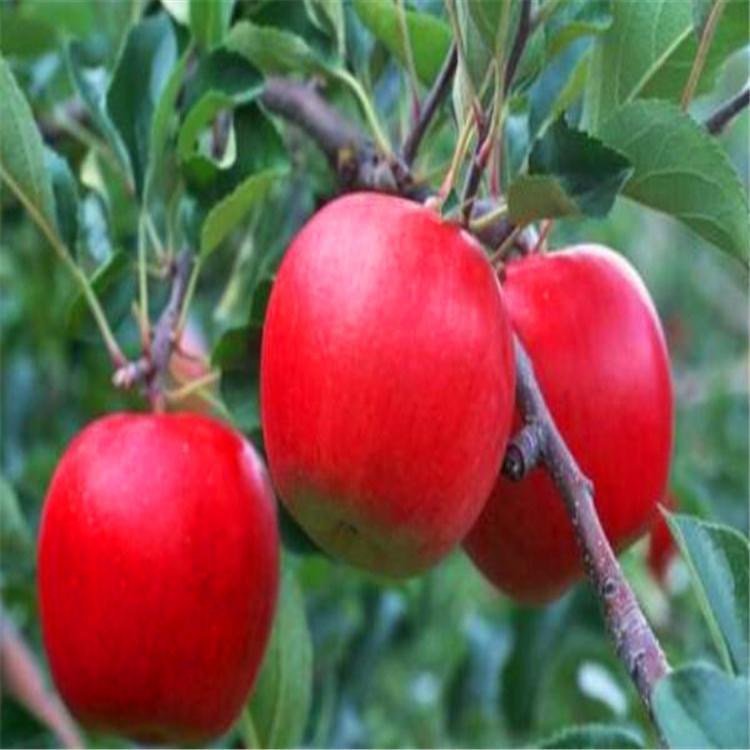apple: (260, 189, 519, 583), (36, 407, 278, 743), (459, 244, 679, 604)
